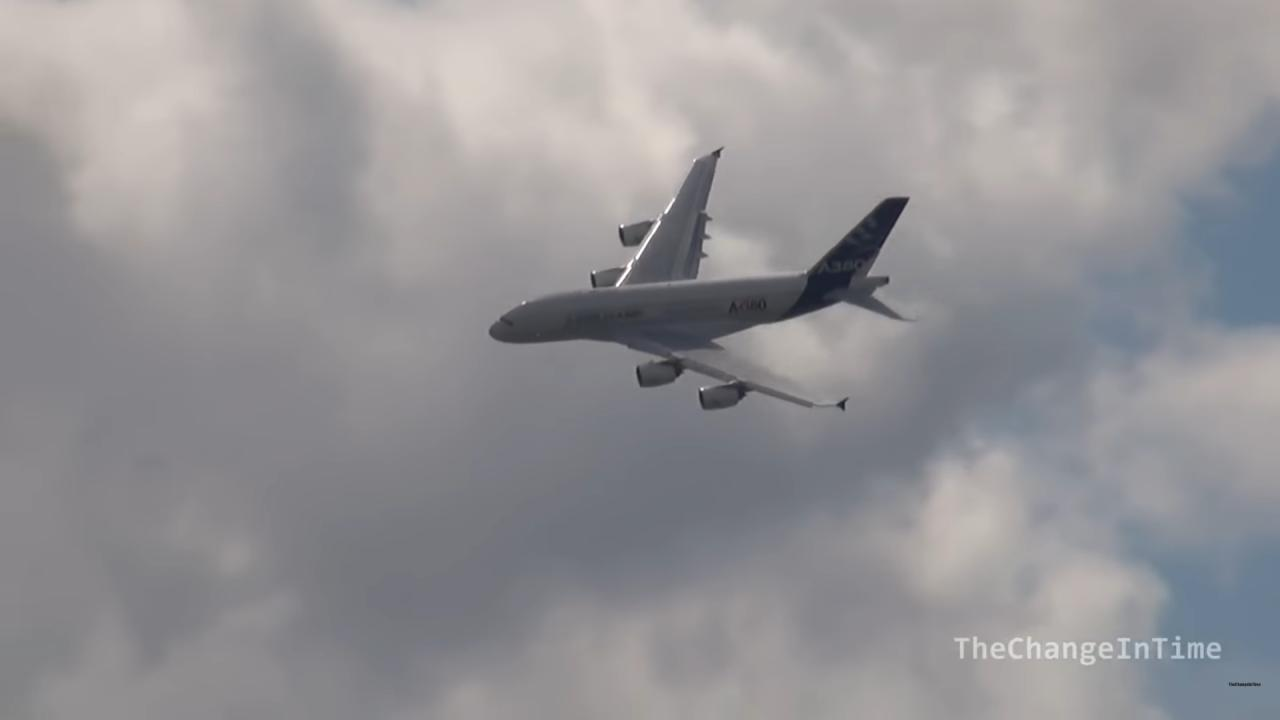Airplane: (476, 134, 929, 427)
